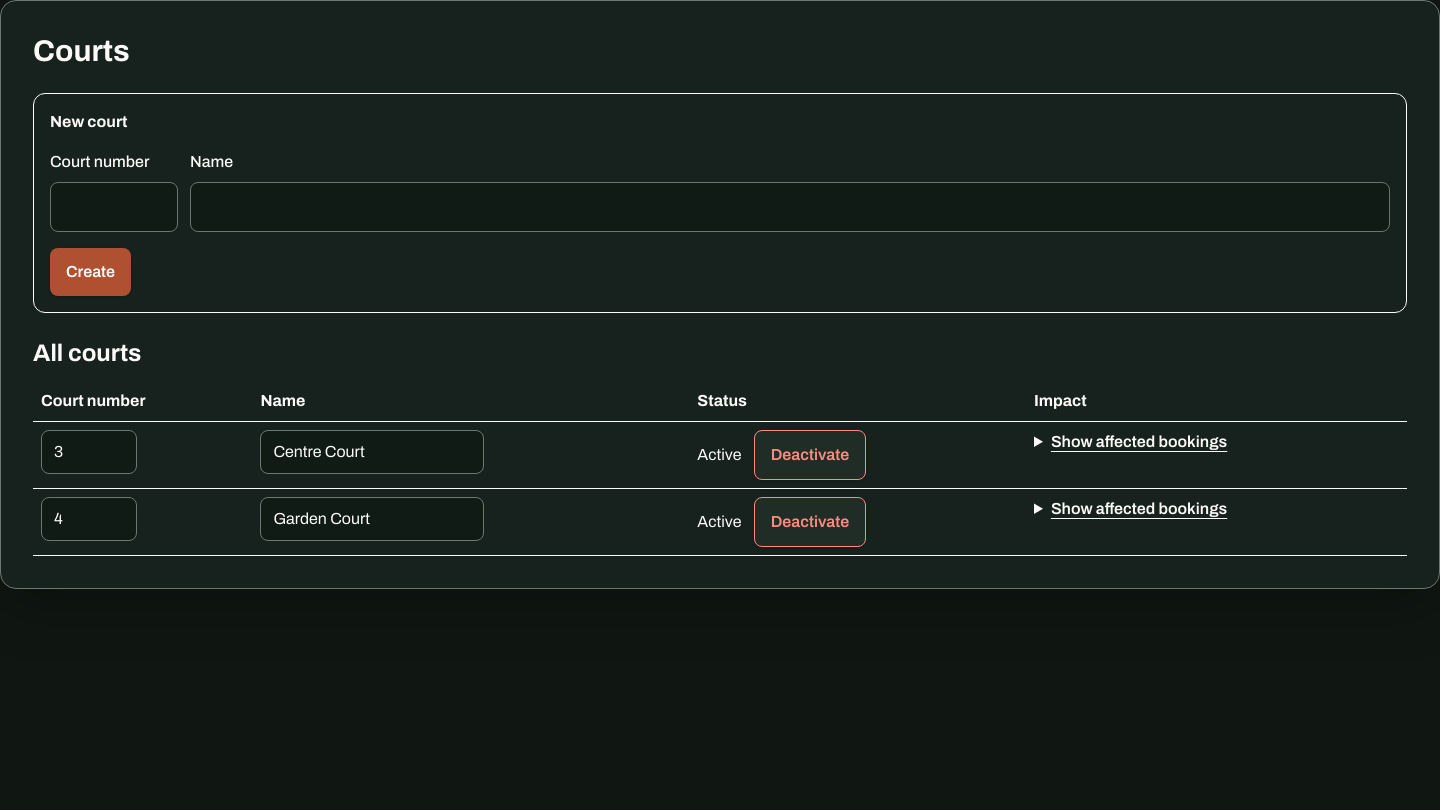
it: AdminCourtsView › given a first court the instance refuses, when the page is saved, then the courts after it are not sent and stay unsaved
Expected: the row with test id "court-row-court-2" is shown, [33,488,1407,556]
Type "!" into the field with test id "edit-court-name-court-1". click: (372, 452)
box: [260,430,484,474]
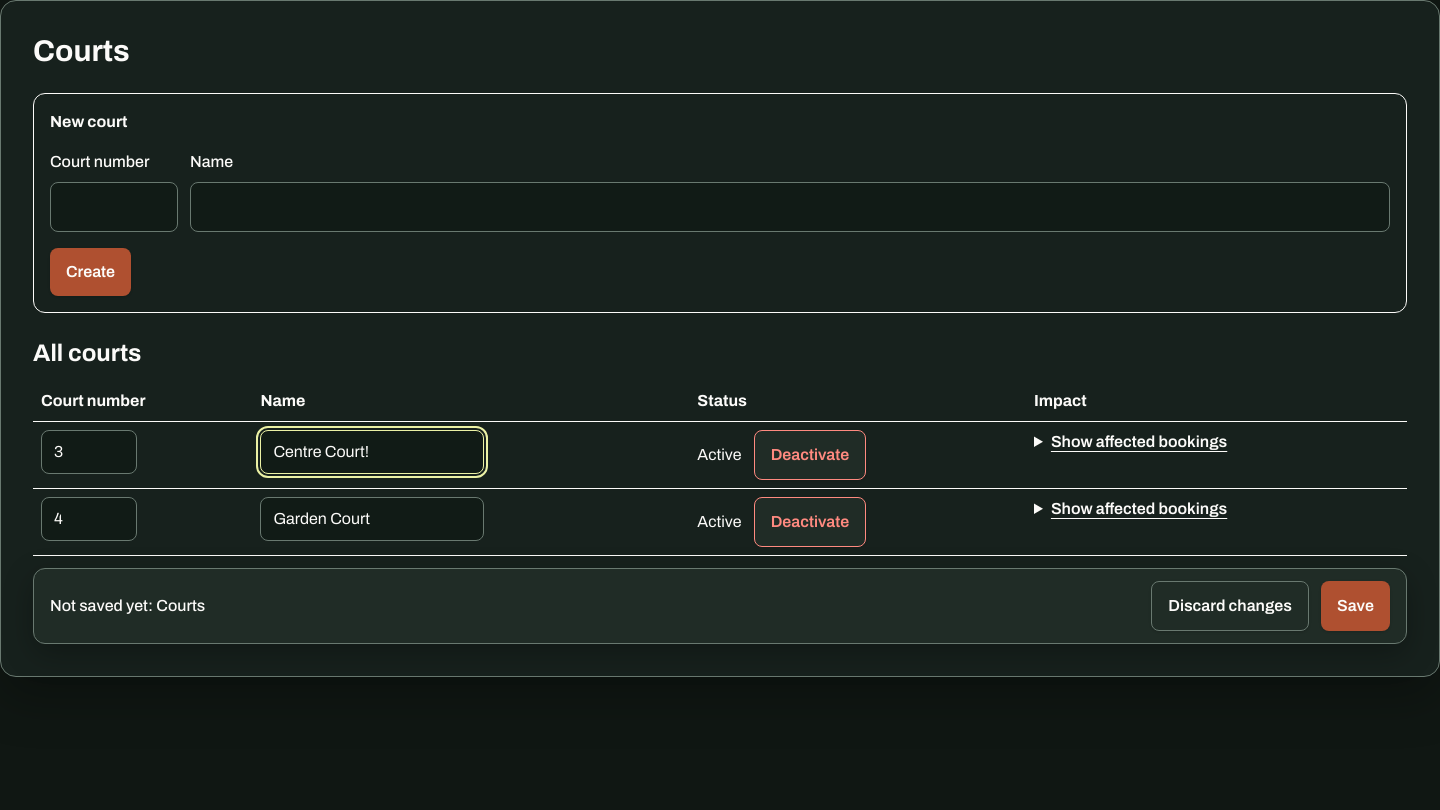
Type "?" into the field with test id "edit-court-name-court-2". click: (372, 519)
box: [260,497,484,541]
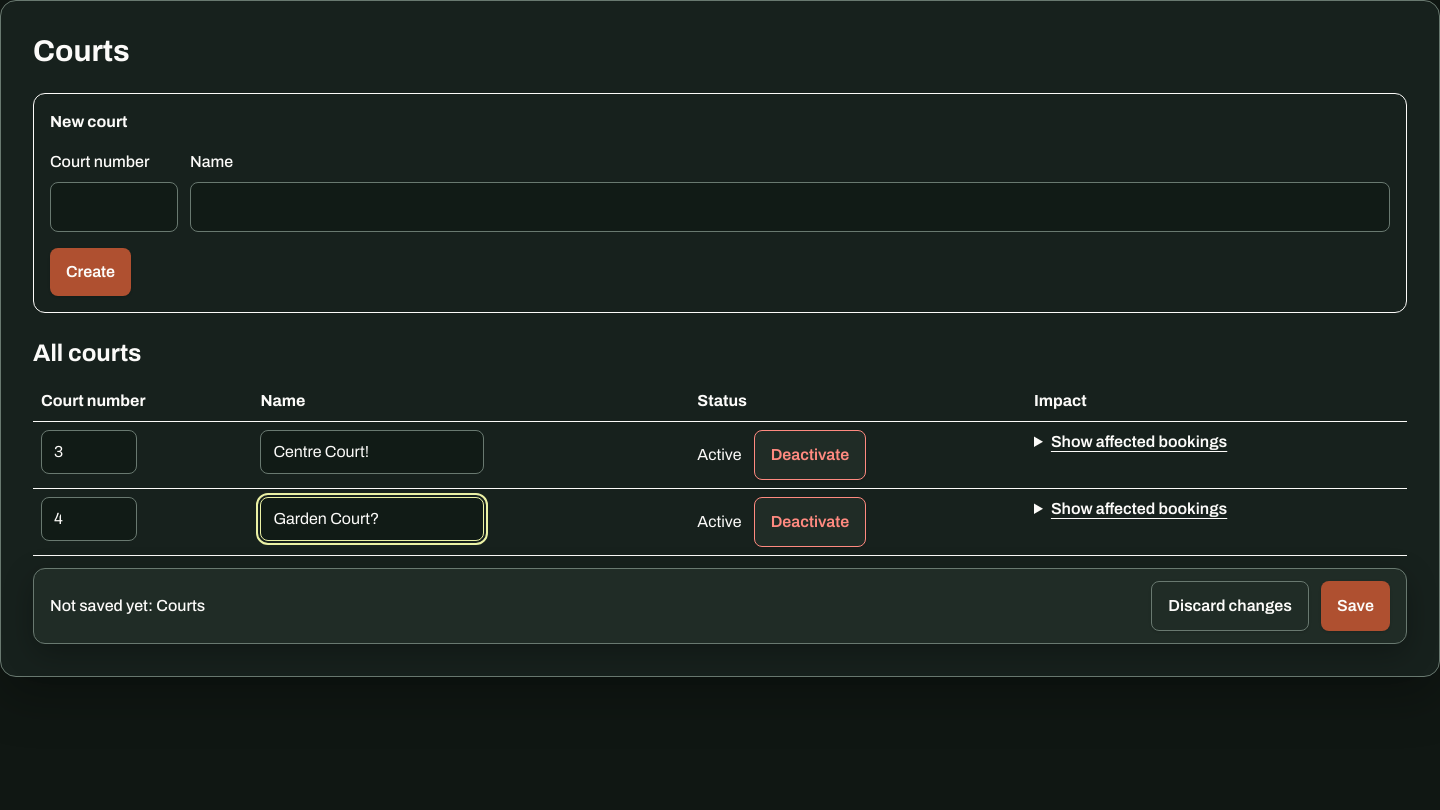
Click the button with test id "save-courts". click: (1356, 606)
box: [1321,581,1390,631]
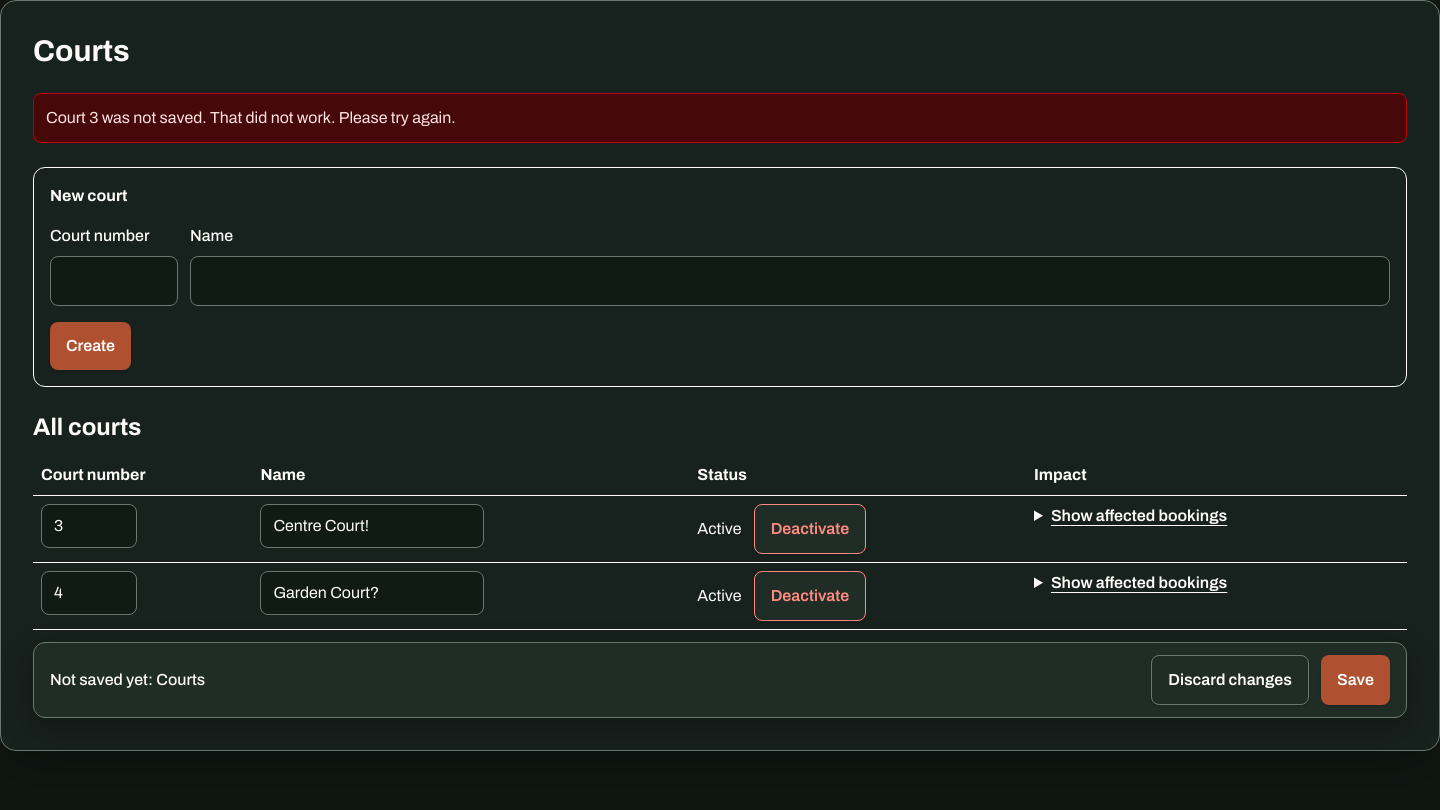
Expected: the field with test id "edit-court-name-court-2" holds "Garden Court?", [260,571,484,615]
Expected: the message shows "Court 3 was not saved.", [46,109,456,126]
